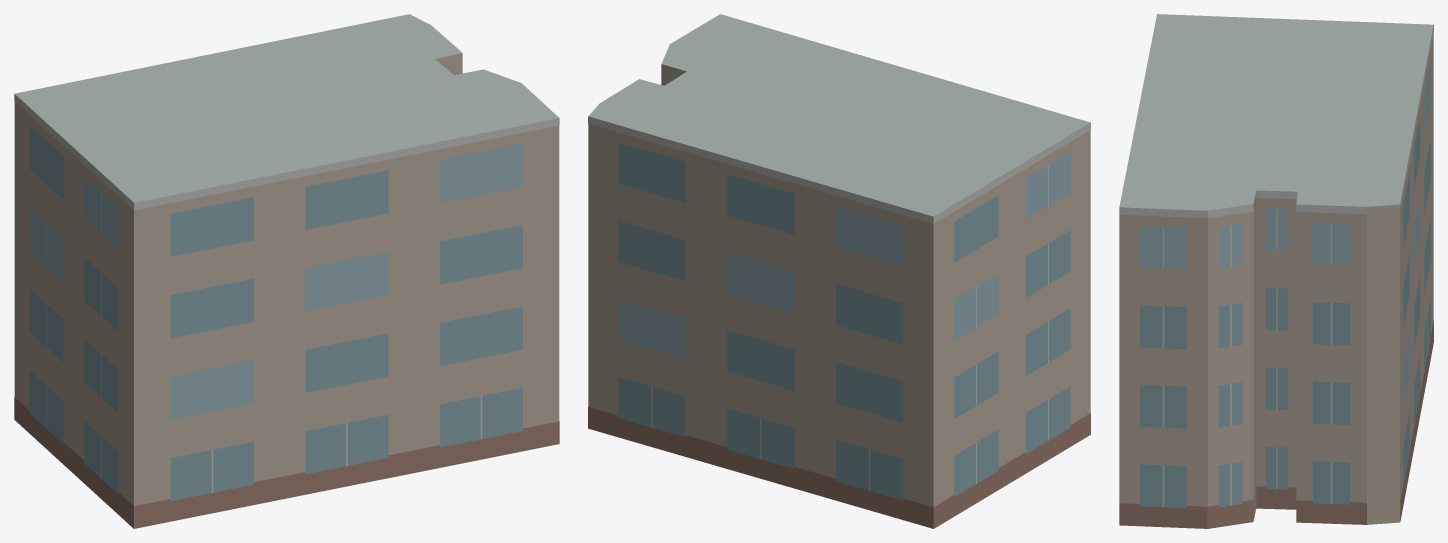
The model's file is survey-upis-32575991.glb.
3 views of the same model, side by side, from view 1: azimuth 30°, elevation 25°; view 2: azimuth 150°, elevation 25°; view 3: azimuth 270°, elevation 25° (orthographic). The views are drawn at different scales.
Visible parts, largest first — view 1: survey-upis-32575991.tmp; view 2: survey-upis-32575991.tmp; view 3: survey-upis-32575991.tmp.
Boxes of the visible parts, box(x1,y1,x2,y2) form: survey-upis-32575991.tmp: box(14, 14, 559, 528); survey-upis-32575991.tmp: box(588, 14, 1090, 528); survey-upis-32575991.tmp: box(1119, 14, 1433, 528).
Bounding box in the file's own units: 13.81 × 10.4 × 9.33.
